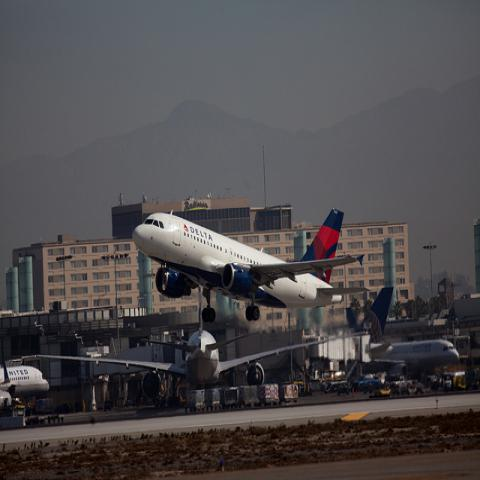truck: (319, 367, 351, 394), (352, 375, 380, 393), (278, 384, 299, 404), (390, 376, 412, 390)
